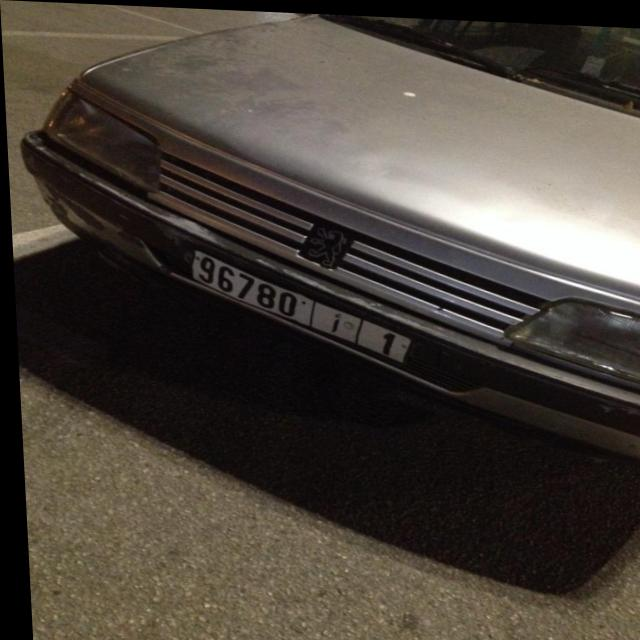License-Plate: (190, 250, 407, 358)
